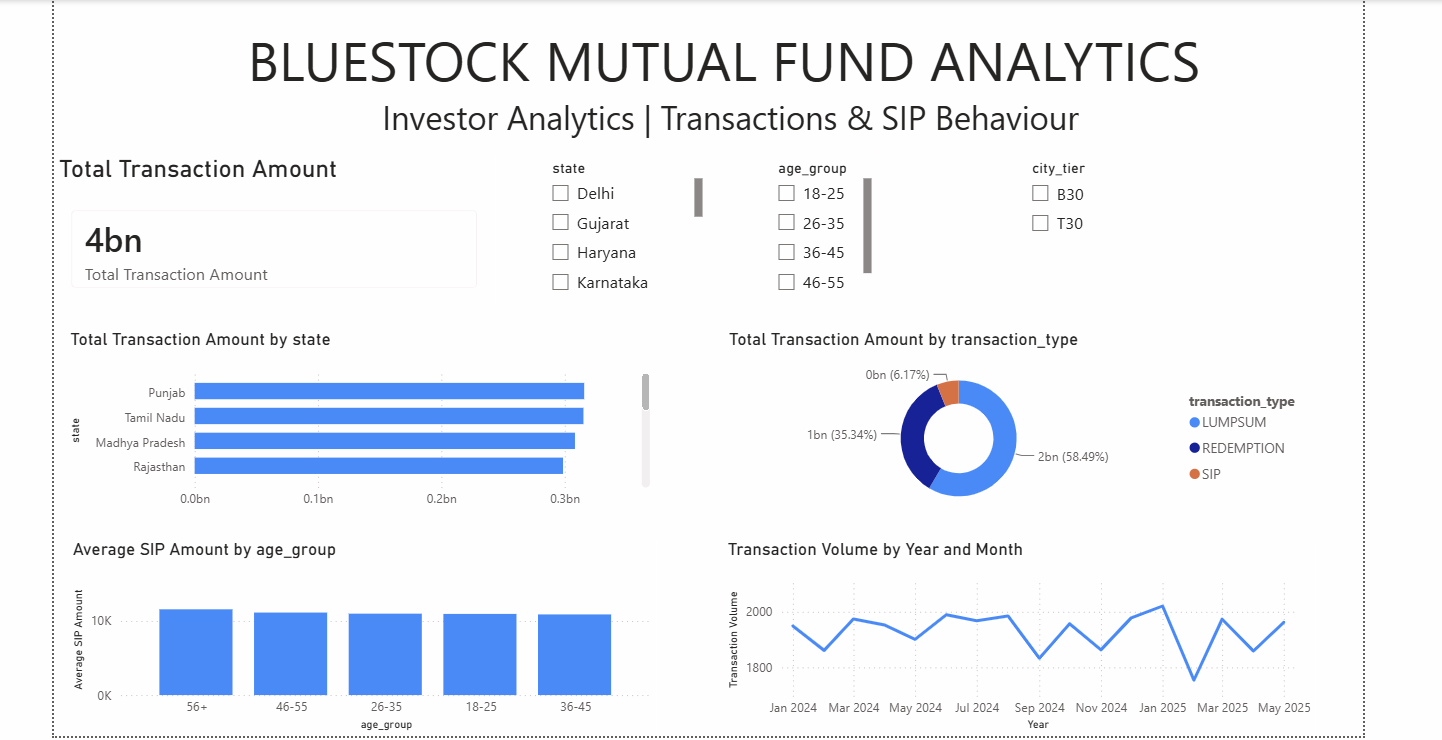

What the dashboard file says about the page in this screenshot:
{"tool":"powerbi","page":{"name":"Investor Analytics","canvas":[1280,720],"ordinal":2},"visuals":[{"type":"textbox","box":[185,17.5,965,217.5],"z":0},{"type":"cardVisual","title":"Total Transaction Amount","fields":{"Data":["Transactions.Total Transaction Amount"]},"box":[0,150.9,431.8,149.1],"z":1000},{"type":"clusteredBarChart","fields":{"Y":["Transactions.Total Transaction Amount"],"Category":["Transactions.state"]},"box":[11.4,321.4,577.1,184.3],"z":2000},{"type":"donutChart","fields":{"Category":["Transactions.transaction_type"],"Y":["Transactions.Total Transaction Amount"]},"box":[655.7,321.4,578.6,184.3],"z":3000},{"type":"clusteredColumnChart","fields":{"Category":["Transactions.age_group"],"Y":["Transactions.Average SIP Amount"]},"box":[12.9,527.1,576.4,192.7],"z":4000},{"type":"lineChart","fields":{"Category":["Transactions.transaction_date.Variation.Date Hierarchy.Year","Transactions.transaction_date.Variation.Date Hierarchy.Month"],"Y":["Transactions.Transaction Volume"]},"box":[654.3,527.1,580,192.9],"z":5000},{"type":"slicer","fields":{"Values":["Transactions.state"]},"box":[474.5,150.9,165,145],"z":6000},{"type":"slicer","fields":{"Values":["Transactions.age_group"]},"box":[696.4,150.9,108.8,145],"z":7000},{"type":"slicer","fields":{"Values":["Transactions.city_tier"]},"box":[943.6,150.9,96.2,107.5],"z":8000}]}

Visuals, with their boxes on the page's 1280x720 design canvas (x1, y1, x2, y2). These are canvas units, not pixel positions in the 1442x740 screenshot, which may show the page scaled, cropped or inside an application window:
textbox: left=185, top=18, right=1150, bottom=235
"Total Transaction Amount" cardVisual: left=0, top=151, right=432, bottom=300
clusteredBarChart - Transactions.Total Transaction Amount x Transactions.state: left=11, top=321, right=588, bottom=506
donutChart - Transactions.transaction_type x Transactions.Total Transaction Amount: left=656, top=321, right=1234, bottom=506
clusteredColumnChart - Transactions.age_group x Transactions.Average SIP Amount: left=13, top=527, right=589, bottom=720
lineChart - Transactions.transaction_date.Variation.Date Hierarchy.Year x Transactions.transaction_date.Variation.Date Hierarchy.Month: left=654, top=527, right=1234, bottom=720
slicer - Transactions.state: left=474, top=151, right=640, bottom=296
slicer - Transactions.age_group: left=696, top=151, right=805, bottom=296
slicer - Transactions.city_tier: left=944, top=151, right=1040, bottom=258
